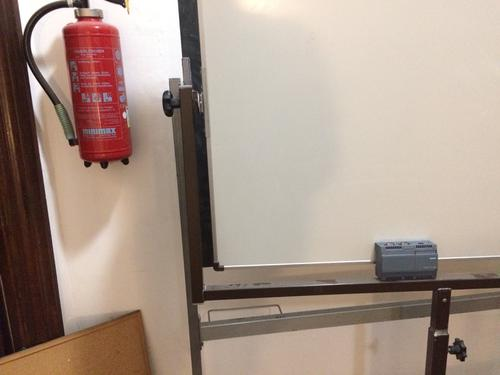iot2000: (374, 239, 439, 282)
